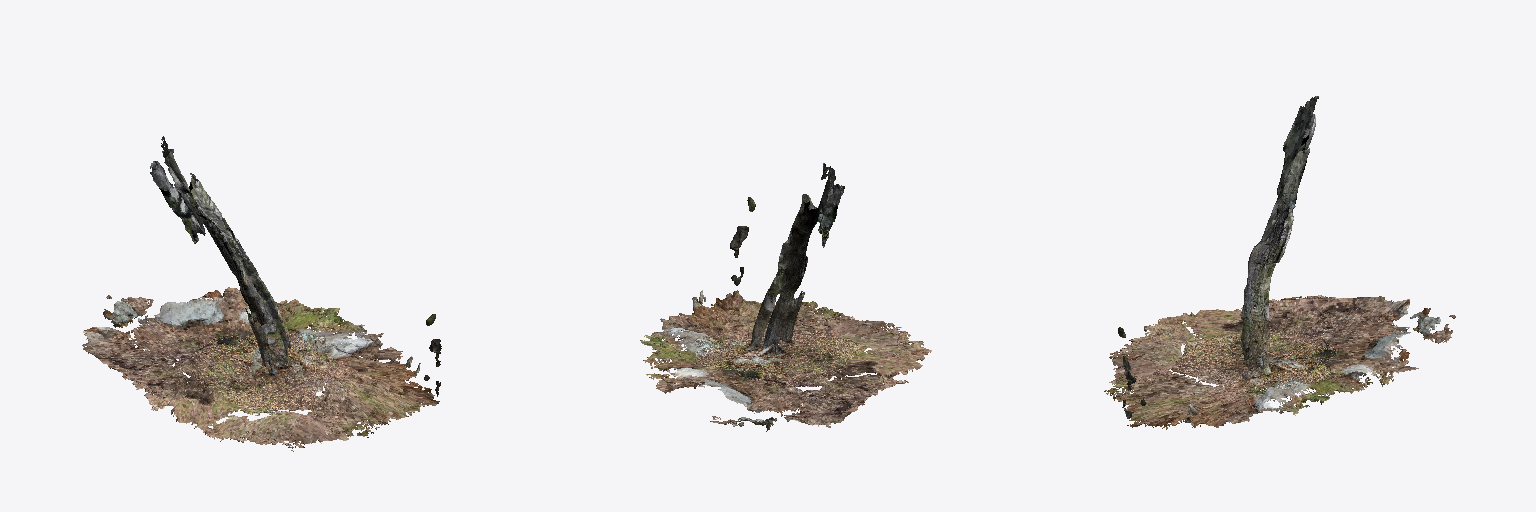
The picture shows the model from 3 angles: view 1: azimuth 30°, elevation 25°; view 2: azimuth 150°, elevation 25°; view 3: azimuth 270°, elevation 25°; orthographic projection.
Visible parts, largest first — view 1: mesh_0; view 2: mesh_0; view 3: mesh_0.
Part boxes in pixels (x1,y1,x2,y2): mesh_0: (82, 136, 441, 451); mesh_0: (640, 163, 931, 431); mesh_0: (1104, 96, 1455, 429).
Bounding box in the file's own units: 5.85 × 5.67 × 7.25.
1 materials, 1 textured.